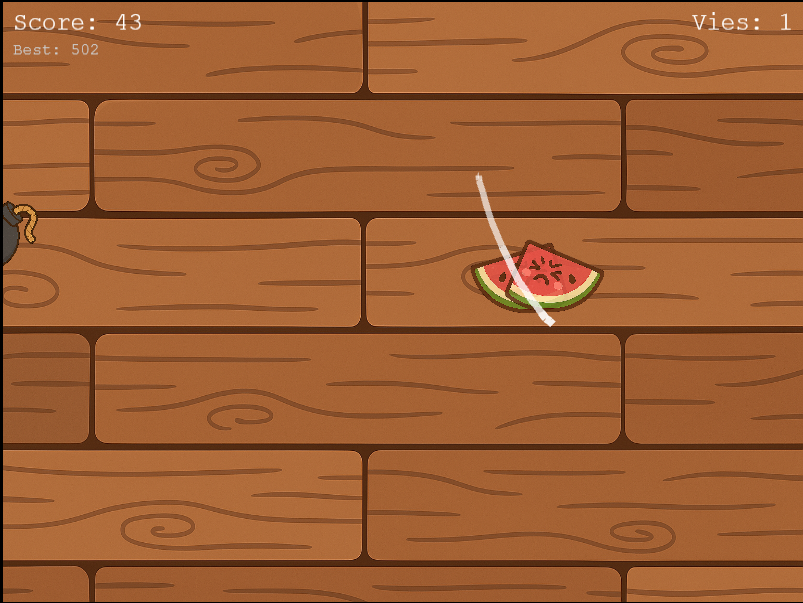bomb: (1, 192, 42, 273)
